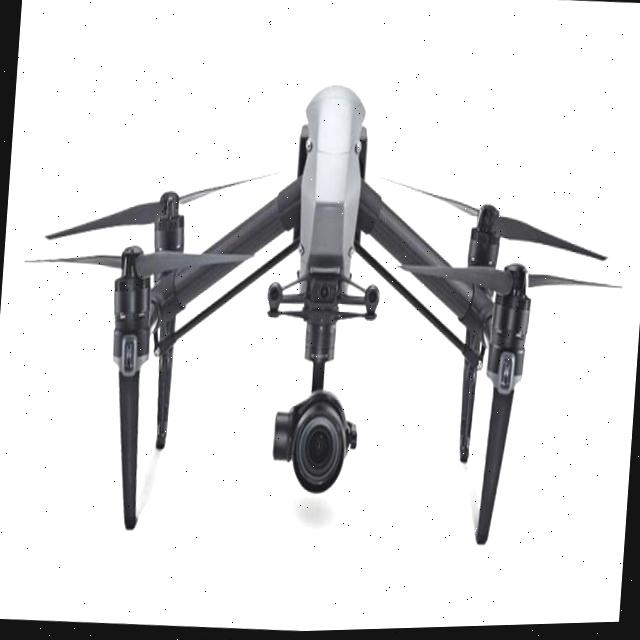drone: (44, 90, 636, 502)
